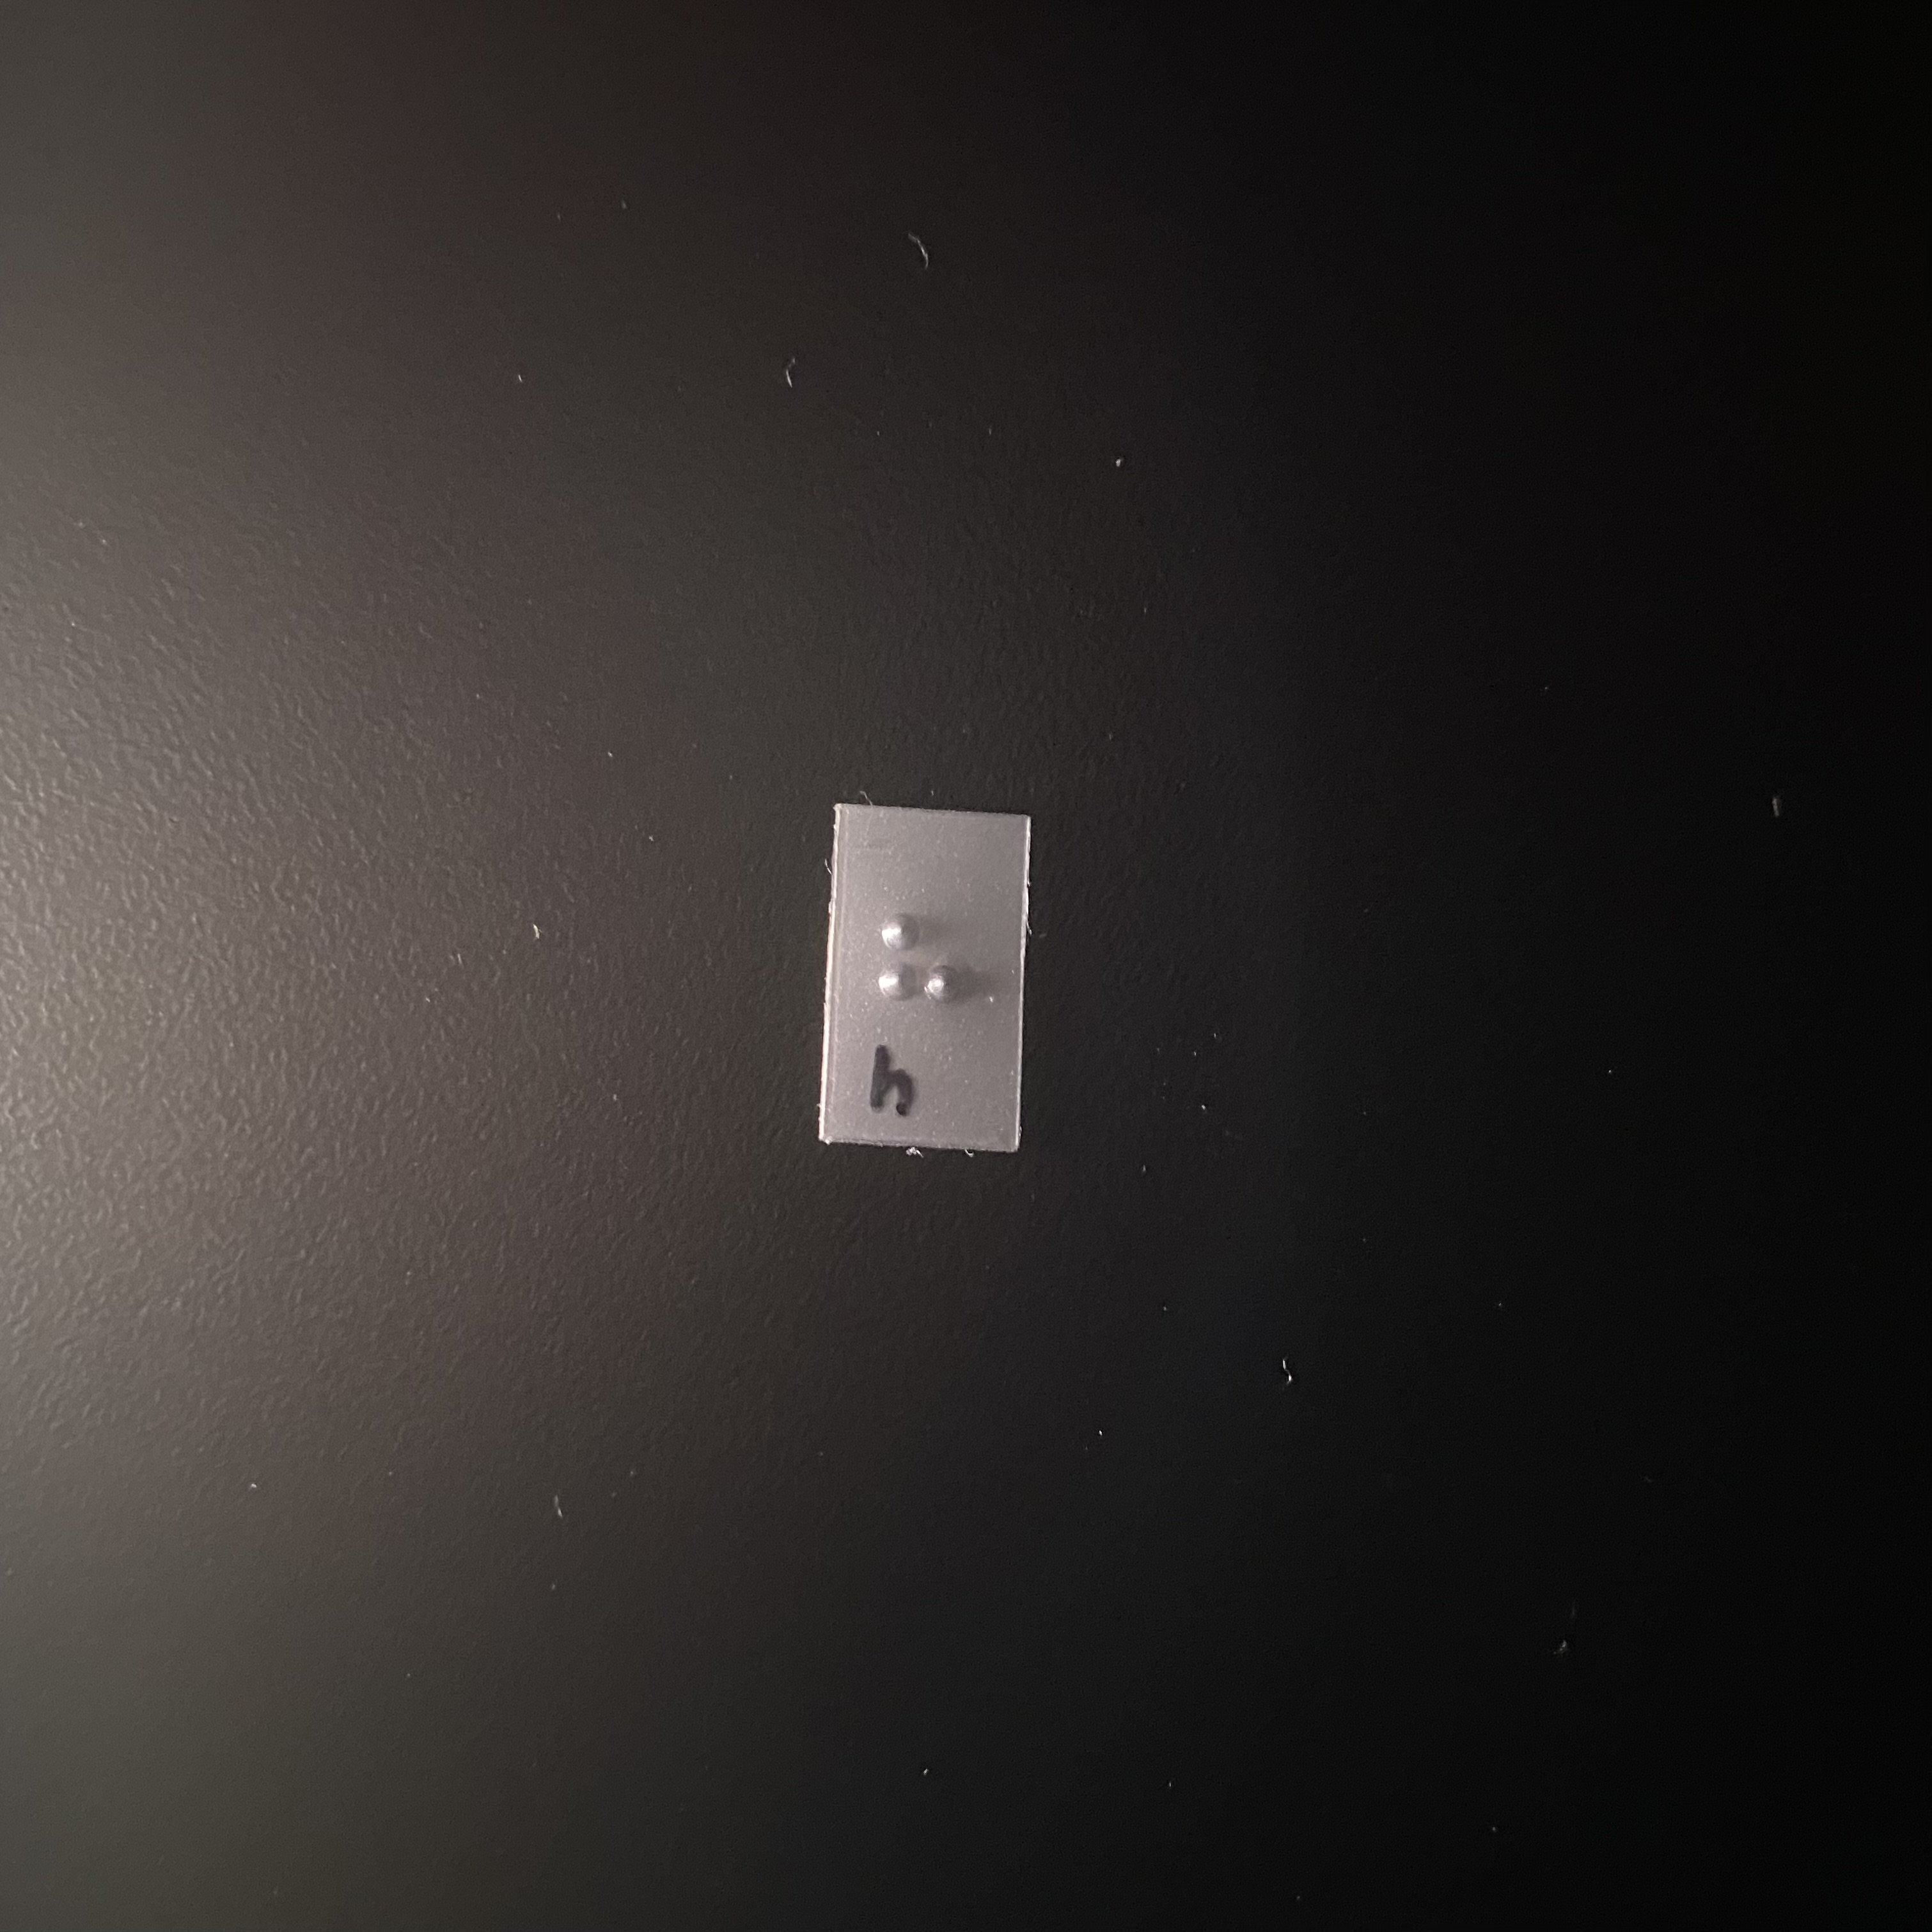h: (871, 899, 972, 1072)
